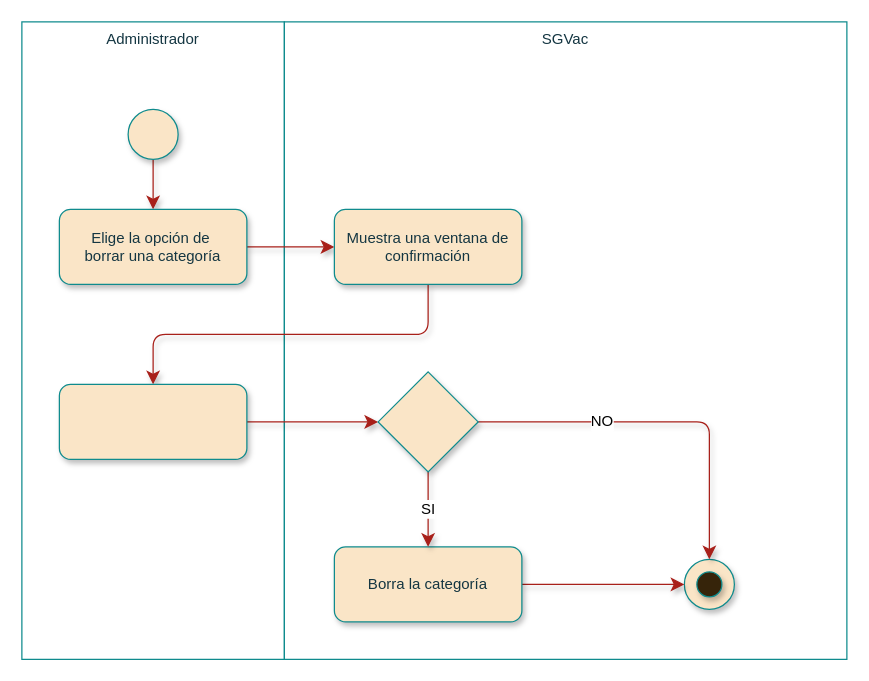
The diagram is 869 pixels wide and 681 high, and some of its shapes have lost their labels. Each missing label, with the centre of its shape:
"Confirma borrado?" belongs at [429,423].
"Confirma o cancela" belongs at [153,423].
